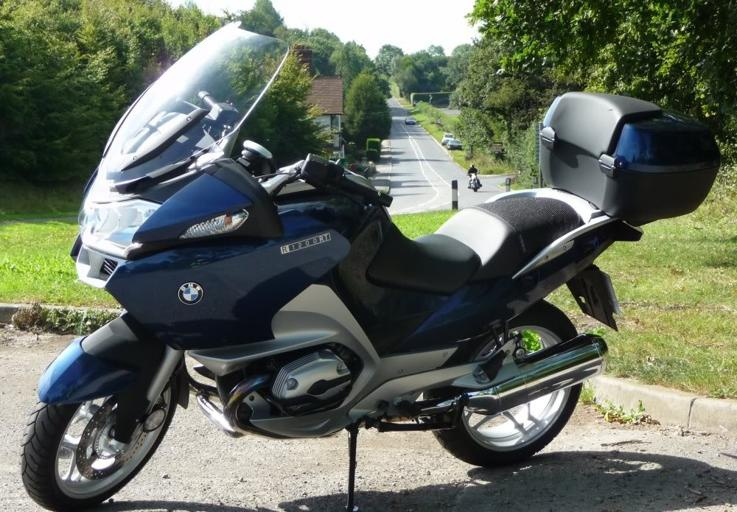non-vehicle: (15, 22, 719, 509), (463, 172, 480, 191)
